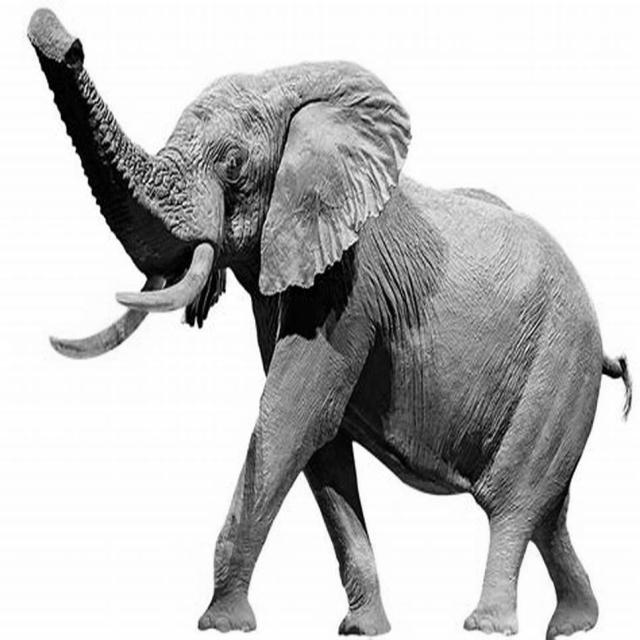Elephant: (26, 5, 633, 638)
